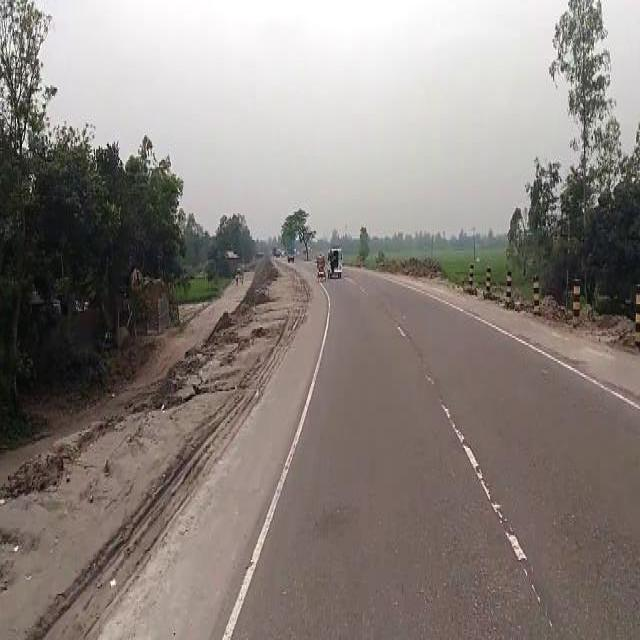TRUCK: (328, 249, 347, 281)
